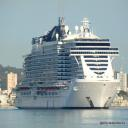cruises: (15, 17, 122, 111)
